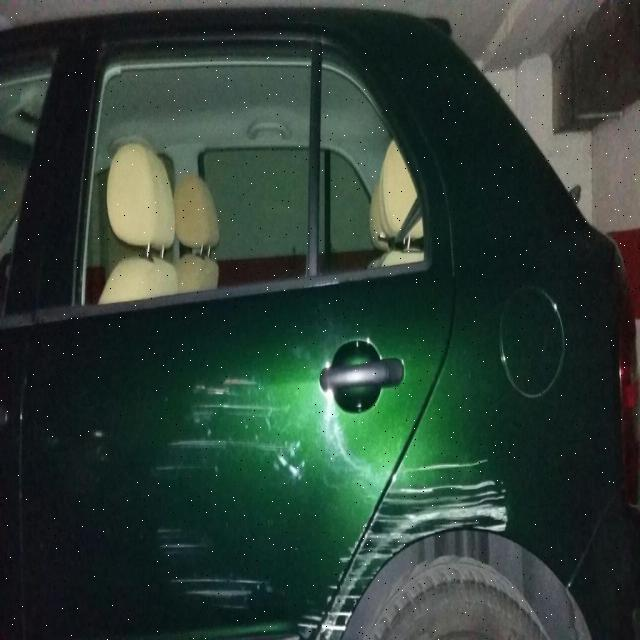damage: (294, 476, 506, 638), (153, 376, 296, 477), (167, 577, 269, 610), (154, 523, 208, 551)
